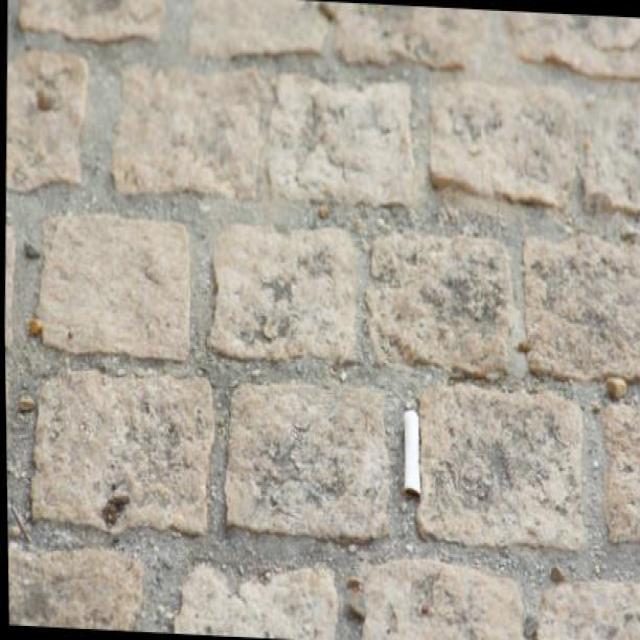cigarette: (398, 404, 421, 500)
